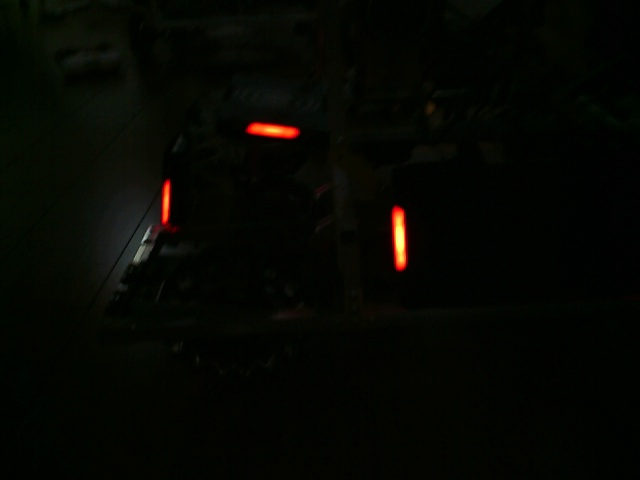lamp: (388, 202, 408, 274), (160, 177, 175, 233)
